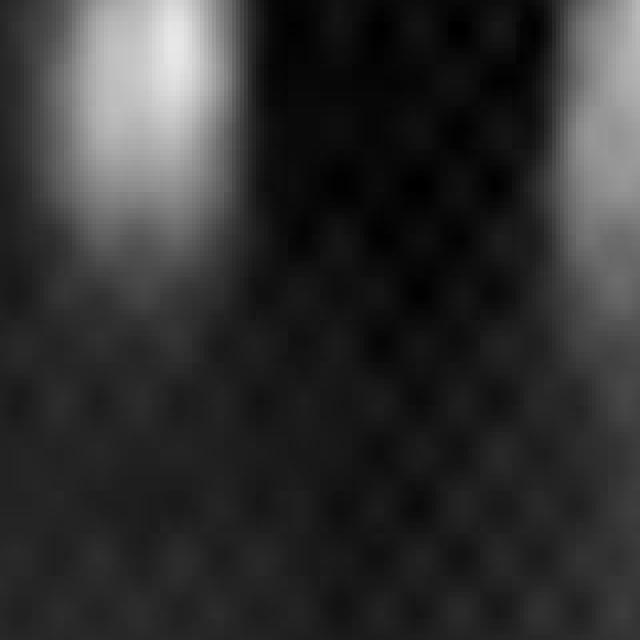person: (41, 1, 269, 300), (545, 1, 640, 486)
